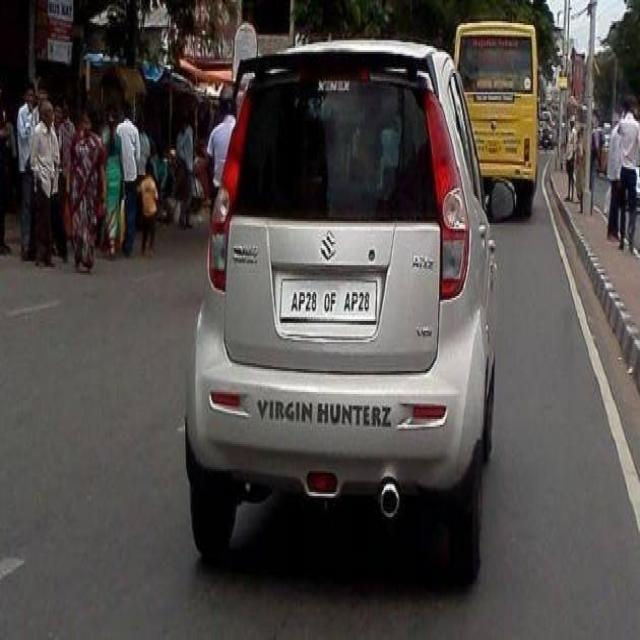Number-Plate: (282, 278, 376, 326)
